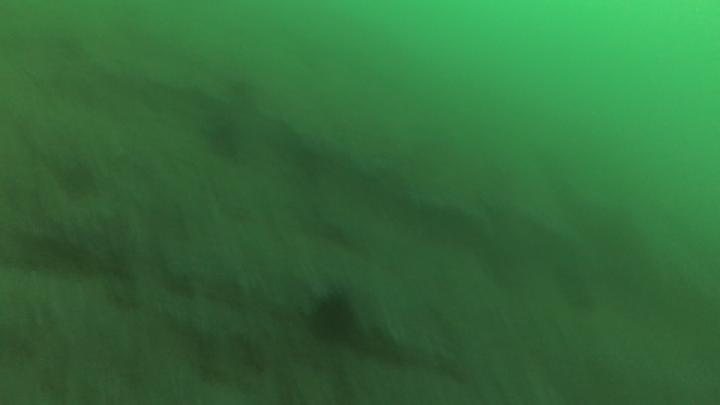echinus: (308, 291, 357, 351)
